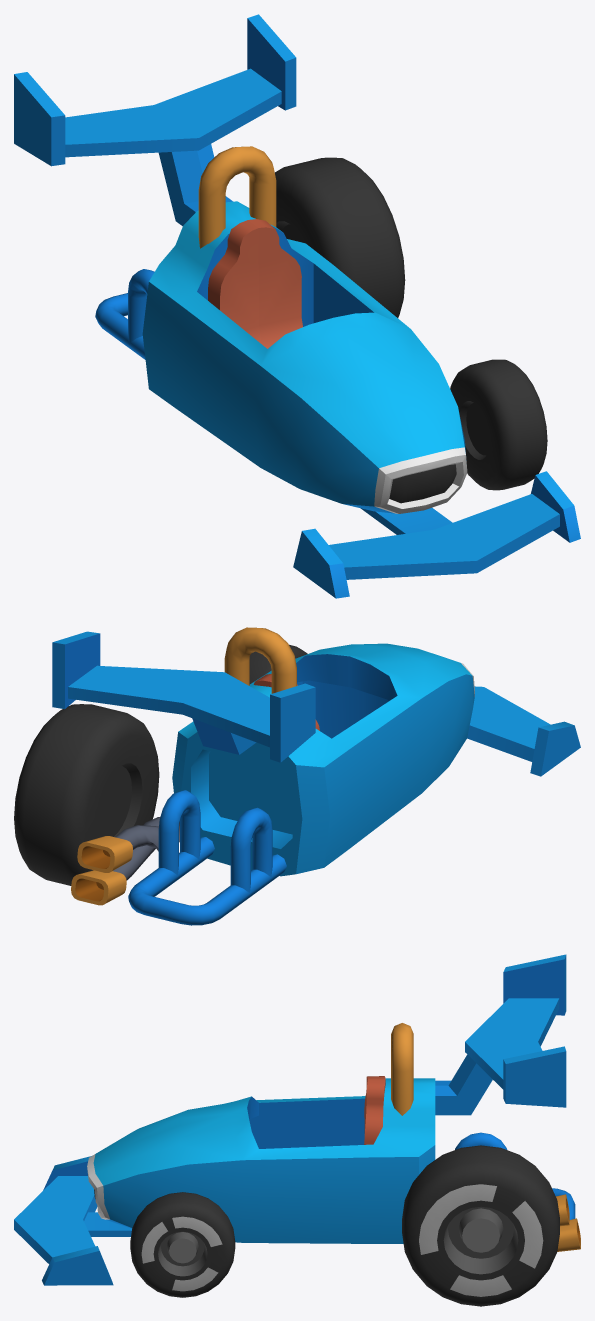
File: Sport 1.fbx
3 views of the same model, one above another, from view 1: azimuth 30°, elevation 25°; view 2: azimuth 150°, elevation 25°; view 3: azimuth 270°, elevation 25° (orthographic). The views are drawn at different scales.
Parts seen in each view (by area): view 1: Sport 01 Kuzov Sport, Sport 01 Spoler, Sport 01 Spoler Front, Sport 01 Koleso Sport Big Back, Sport 01 Koleso Sport Small Front; view 2: Sport 01 Kuzov Sport, Sport 01 Koleso Sport Big Back, Sport 01 Spoler, Sport 01 Spoler Front, Sport 01 Glushitel, Sport 01 Koleso Sport Small Front; view 3: Sport 01 Kuzov Sport, Sport 01 Koleso Sport Big Back, Sport 01 Spoler, Sport 01 Koleso Sport Small Front, Sport 01 Spoler Front, Sport 01 Glushitel.
Part boxes in pixels (left/top/right/bottom): Sport 01 Kuzov Sport: left=95, top=146, right=467, bottom=513; Sport 01 Spoler: left=14, top=14, right=296, bottom=226; Sport 01 Spoler Front: left=293, top=471, right=580, bottom=598; Sport 01 Koleso Sport Big Back: left=275, top=157, right=405, bottom=317; Sport 01 Koleso Sport Small Front: left=450, top=359, right=547, bottom=490; Sport 01 Kuzov Sport: left=128, top=627, right=474, bottom=925; Sport 01 Koleso Sport Big Back: left=14, top=704, right=159, bottom=885; Sport 01 Spoler: left=52, top=631, right=315, bottom=762; Sport 01 Spoler Front: left=467, top=686, right=580, bottom=776; Sport 01 Glushitel: left=71, top=817, right=179, bottom=905; Sport 01 Koleso Sport Small Front: left=249, top=644, right=307, bottom=684; Sport 01 Kuzov Sport: left=87, top=1023, right=575, bottom=1243; Sport 01 Koleso Sport Big Back: left=402, top=1145, right=559, bottom=1306; Sport 01 Spoler: left=435, top=954, right=566, bottom=1115; Sport 01 Koleso Sport Small Front: left=130, top=1192, right=235, bottom=1297; Sport 01 Spoler Front: left=14, top=1156, right=131, bottom=1285; Sport 01 Glushitel: left=556, top=1194, right=580, bottom=1251.
Size of the model in its own units: 1.7 by 1.61 by 3.45.
